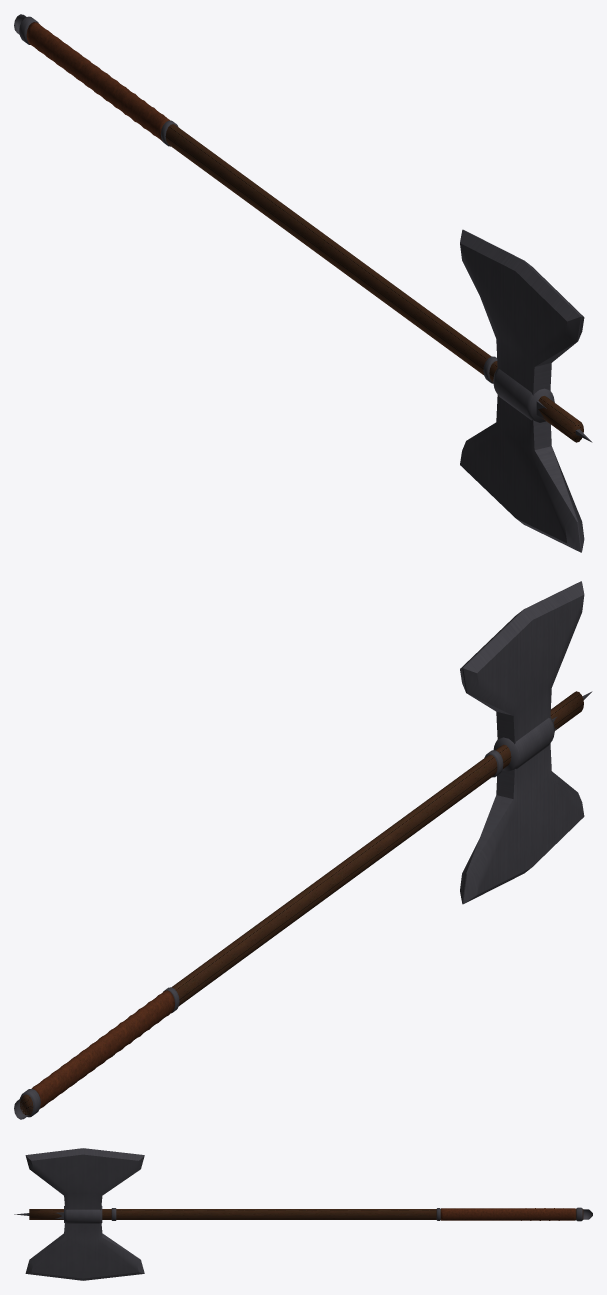
File: weapon_war_axe.glb
3 renders of one model, top to bottom at view 1: azimuth 30°, elevation 25°; view 2: azimuth 150°, elevation 25°; view 3: azimuth 270°, elevation 25°, orthographic. The views are drawn at different scales.
Visible parts, largest first — view 1: war_axe; view 2: war_axe; view 3: war_axe.
Boxes of the visible parts, x1=… form: war_axe: x1=14, y1=14, x2=592, y2=552; war_axe: x1=14, y1=581, x2=592, y2=1119; war_axe: x1=14, y1=1148, x2=592, y2=1280.
Bounding box in the file's own units: 0.0408 × 0.38 × 1.5.
Materials: 3 (3 with a texture image).
